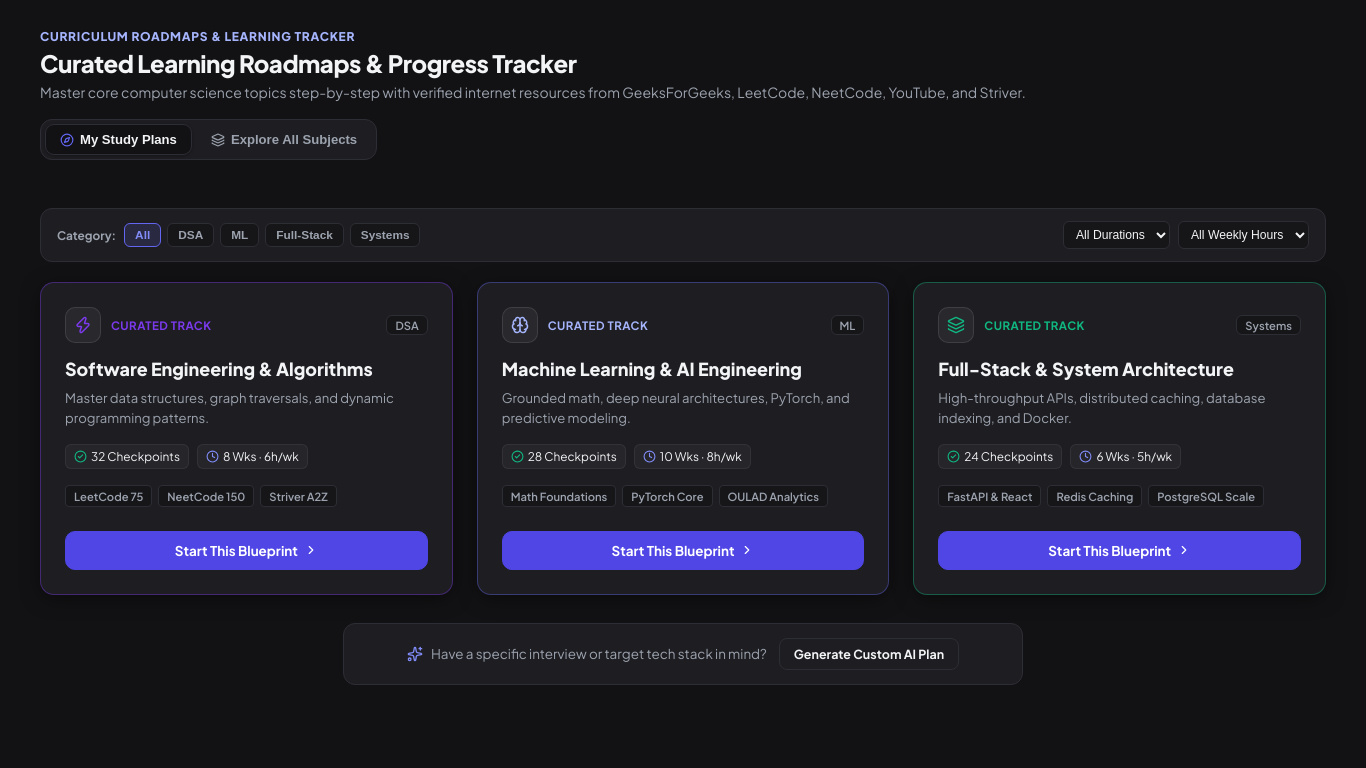
Test: LearnView roadmaps › filters by coding across title, description, stage and topic
Click the button "Explore All Subjects" at [284, 140], box 196,124 -> 372,155
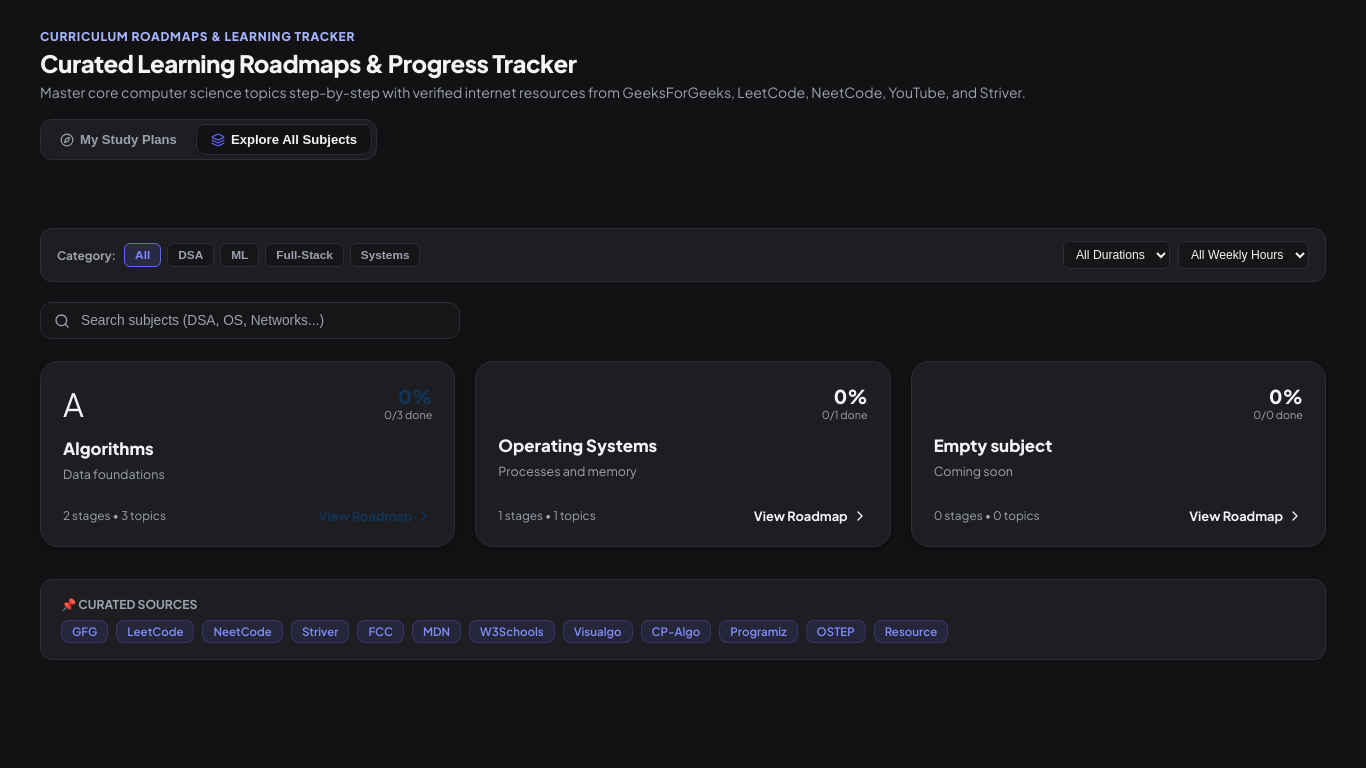
Type "coding" into the field with placeholder "Search subjects (DSA, OS, Networks...)" at [250, 321], box 40,302 -> 460,339
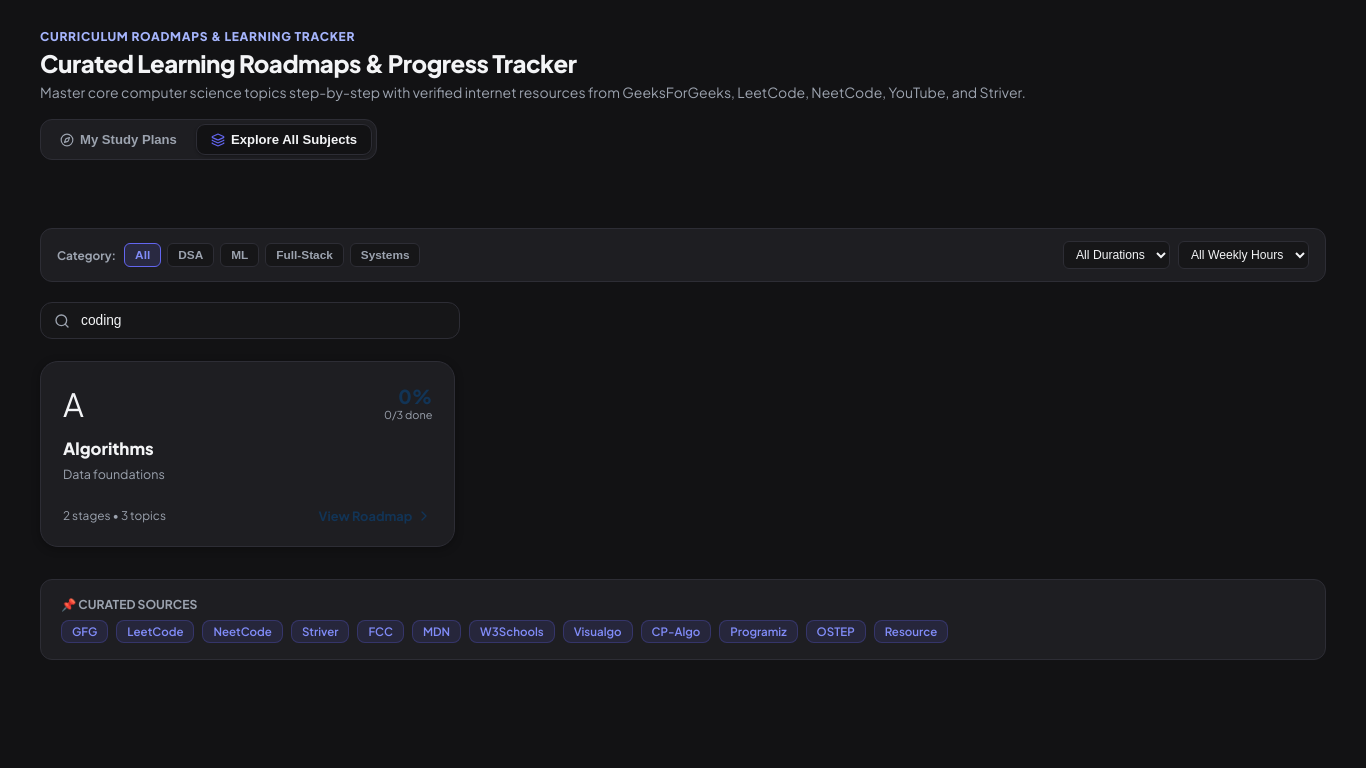
Check: the heading "Algorithms" is shown, box 63,438 -> 154,459
Check: the heading "Empty subject" is gone
